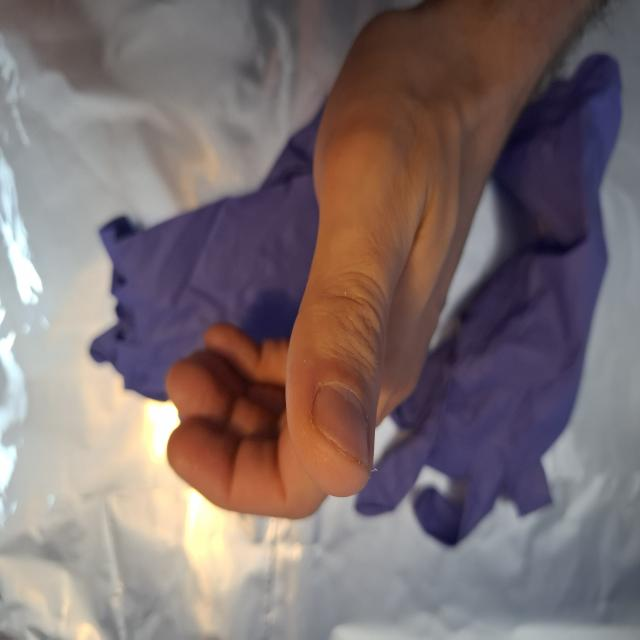glove_off: (162, 6, 537, 525)
